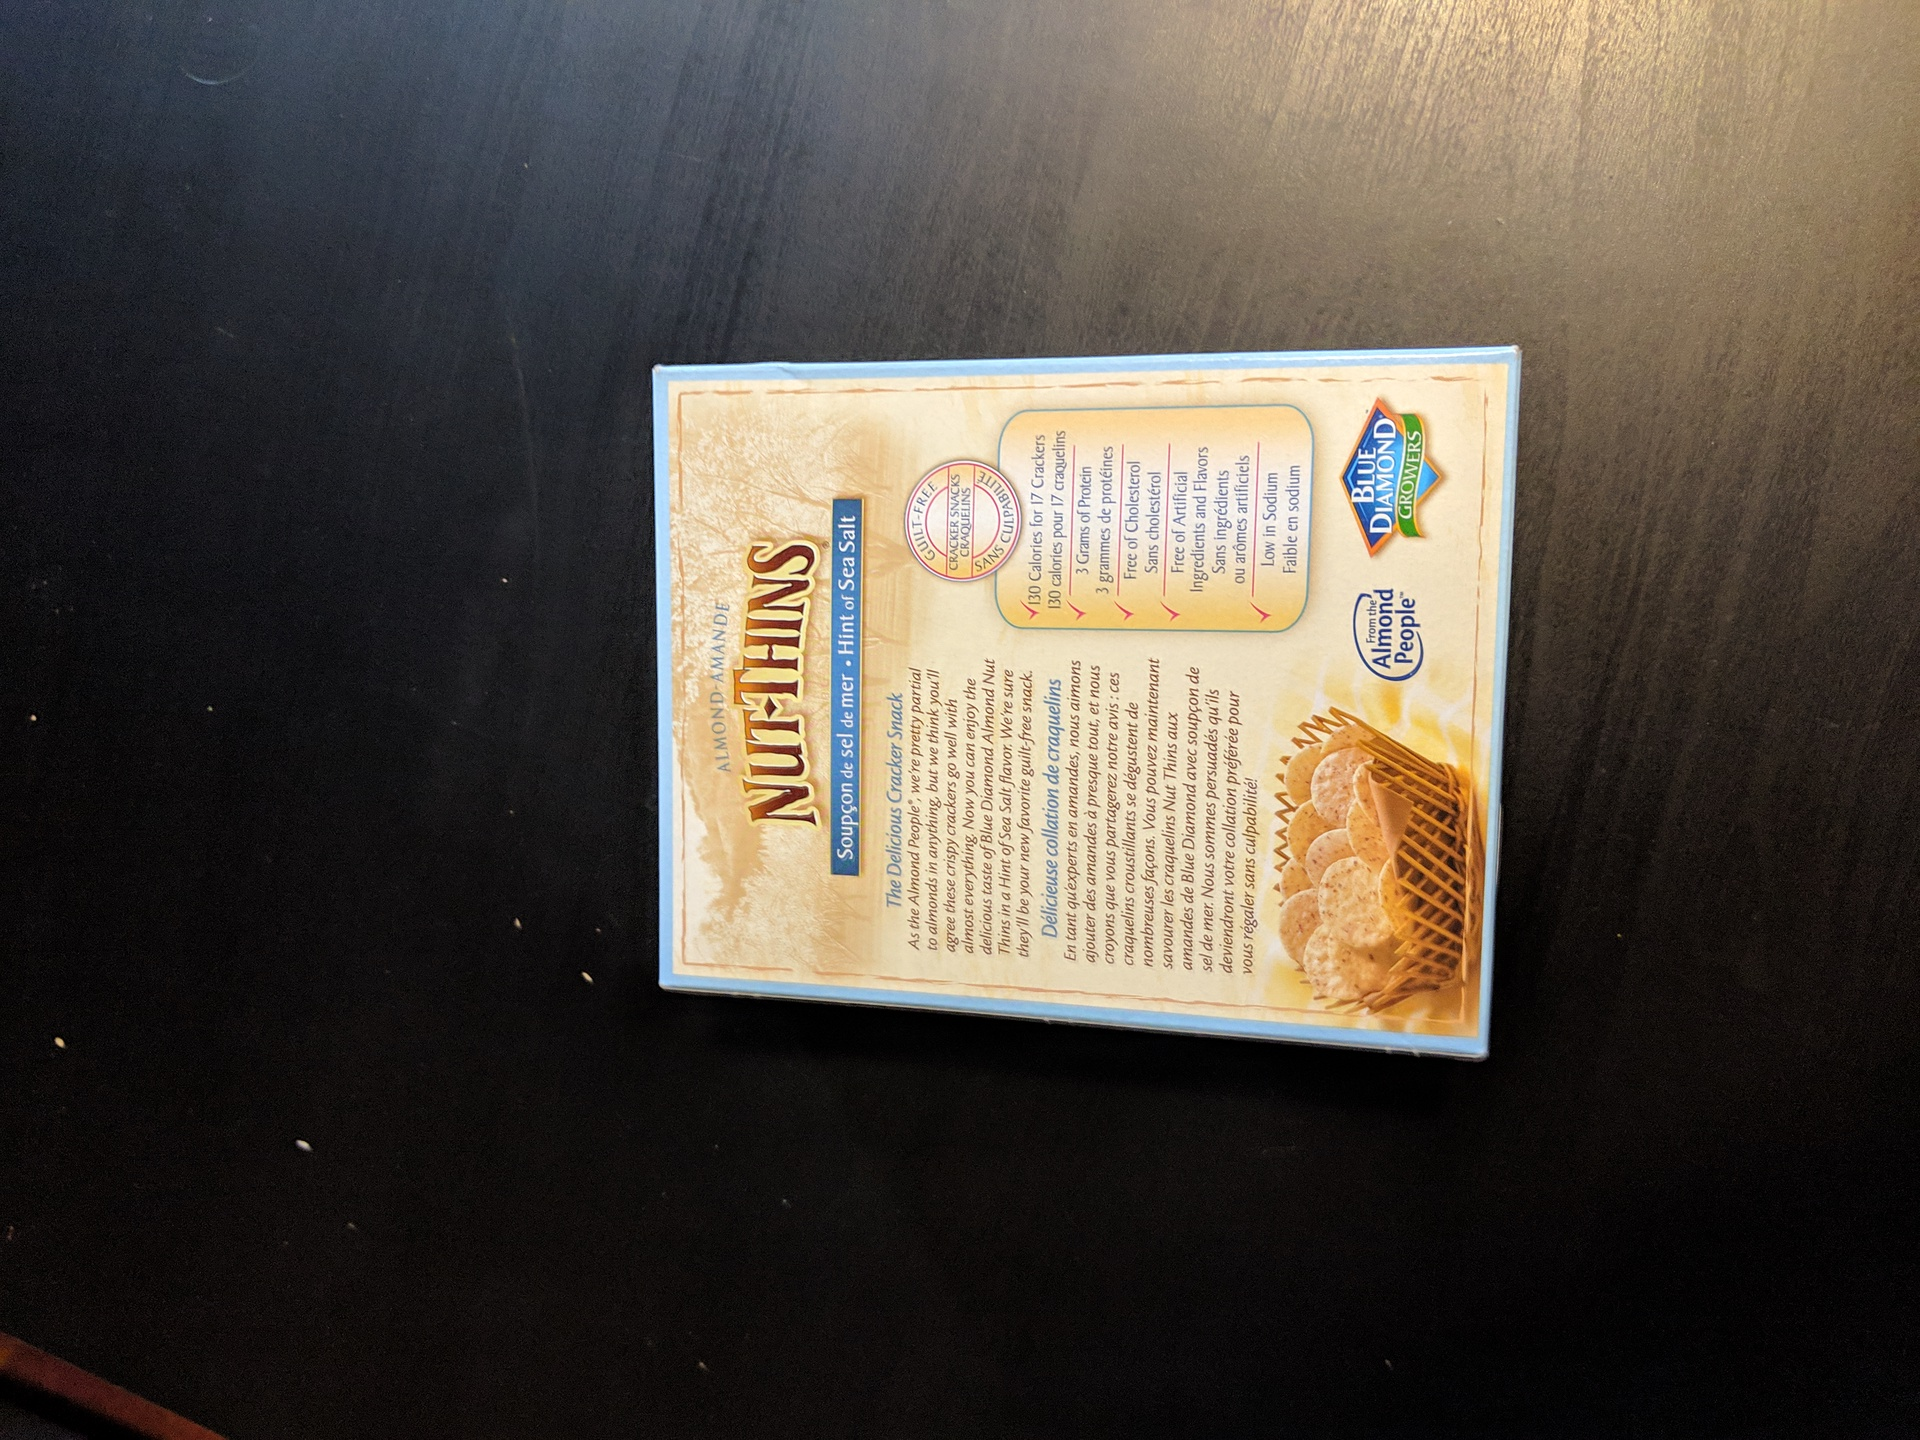blue_diamond_nut_thins_almond_seasalt: (655, 357, 1515, 1059)
